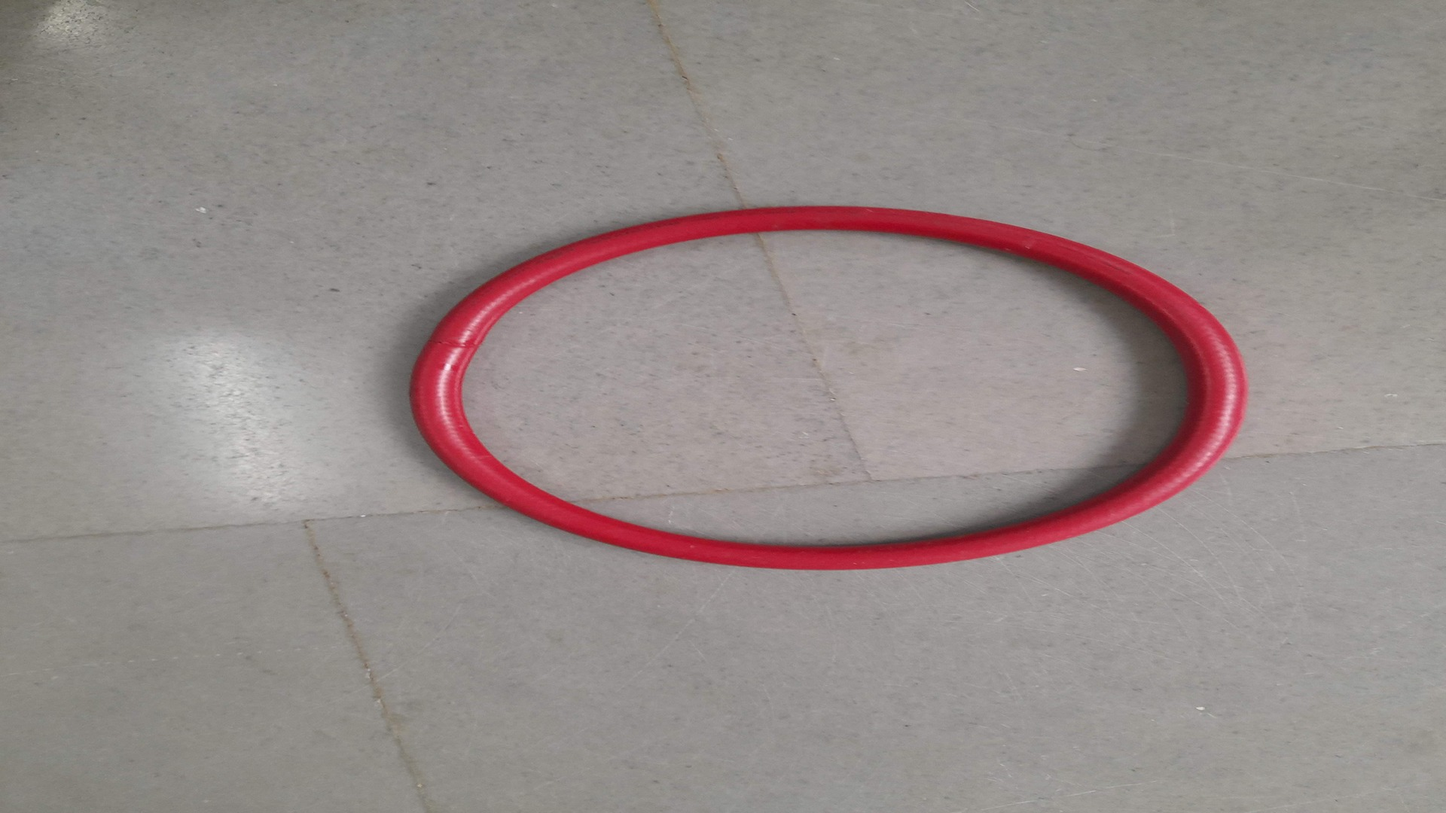Red ring: (413, 206, 1251, 565)
